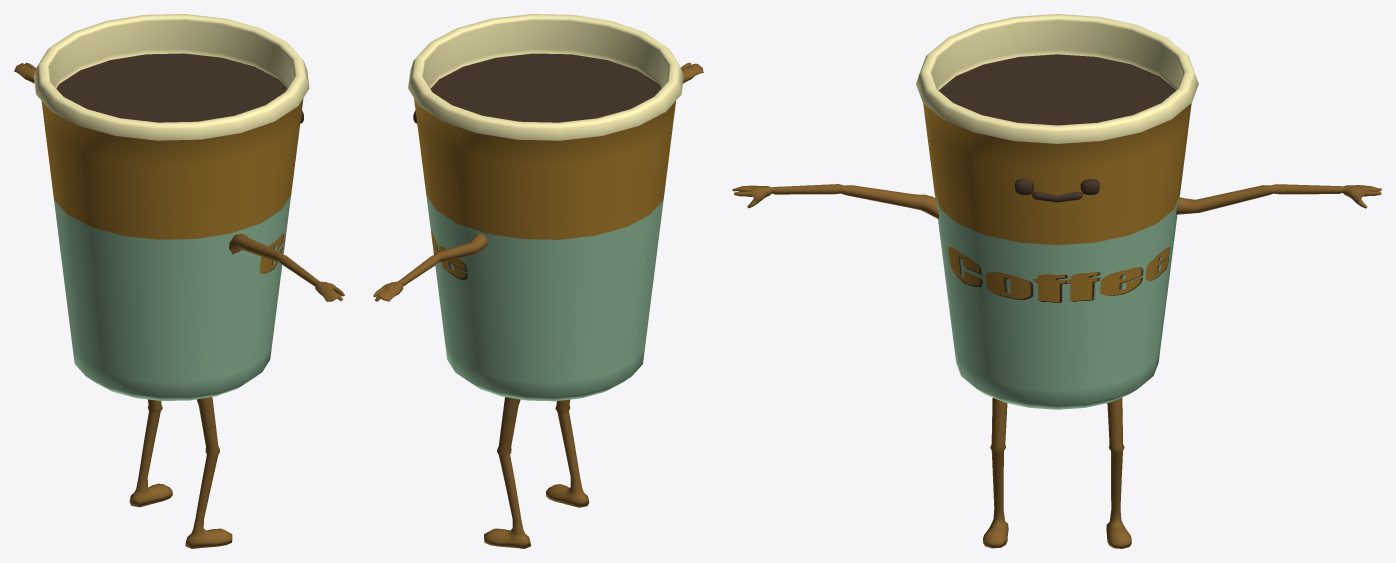
The model's file is Coffee Character.glb.
3 renders of one model, left to right at view 1: azimuth 30°, elevation 25°; view 2: azimuth 150°, elevation 25°; view 3: azimuth 270°, elevation 25°, orthographic. The views are drawn at different scales.
Visible parts, largest first — view 1: mesh_char_120_1; view 2: mesh_char_120_1; view 3: mesh_char_120_1.
Part boxes in pixels (x1,y1,x2,y2): mesh_char_120_1: (14, 14, 344, 548); mesh_char_120_1: (373, 14, 703, 548); mesh_char_120_1: (732, 14, 1381, 548).
Bounding box in the file's own units: 2.57 × 4.64 × 5.9.
1 material, 1 textured.
